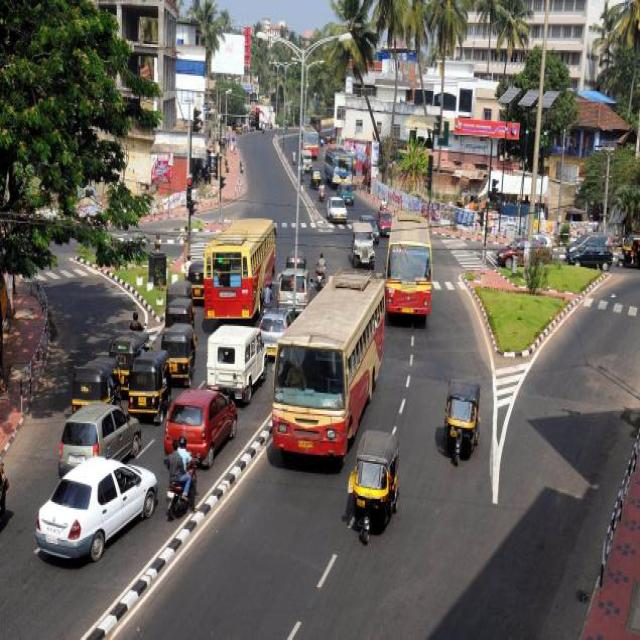Auto: (72, 261, 201, 425), (35, 403, 159, 560), (348, 431, 399, 543), (444, 380, 480, 464)
Bus: (272, 213, 431, 458), (205, 220, 275, 321), (325, 149, 353, 187), (304, 128, 318, 157)
Car: (165, 389, 236, 466), (326, 197, 348, 223)
Two Wheeler: (168, 459, 198, 520)
